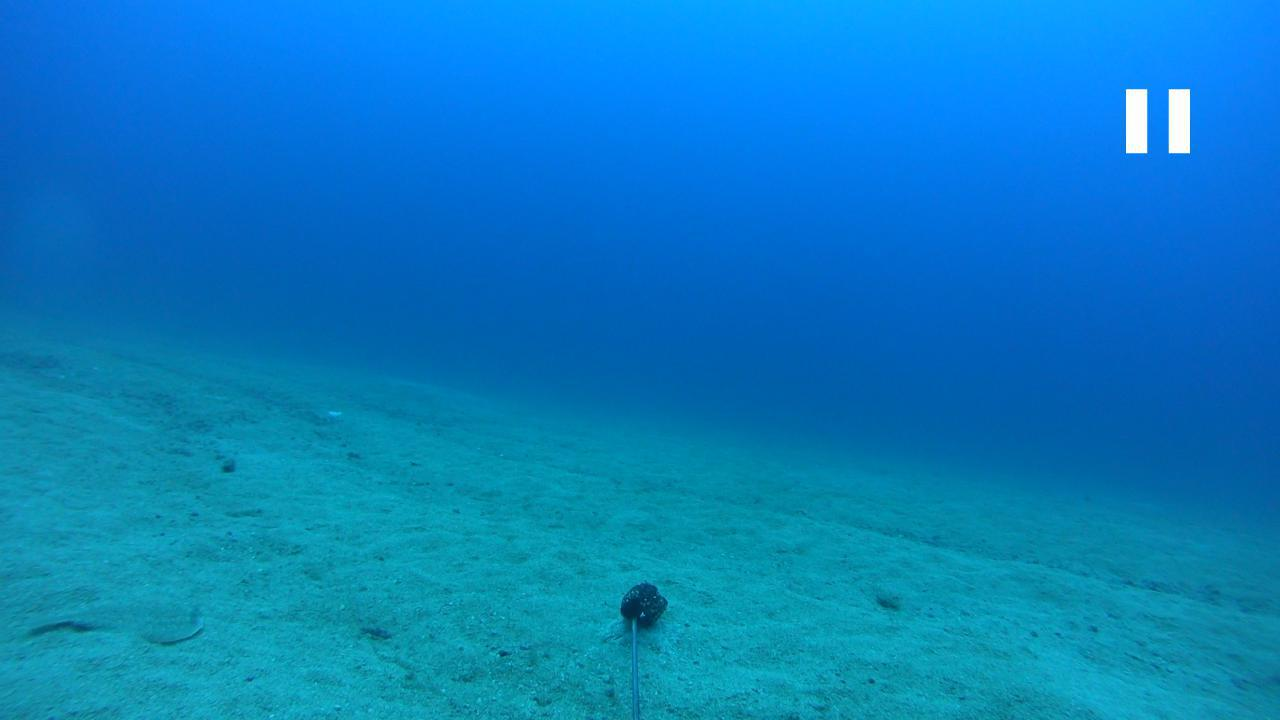bothus: (21, 586, 213, 658)
